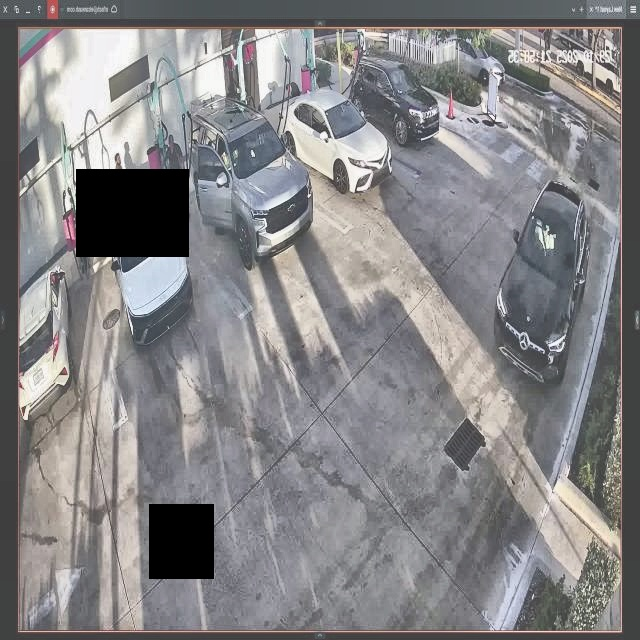Car: (188, 98, 312, 264), (109, 184, 190, 343), (278, 88, 389, 185)
